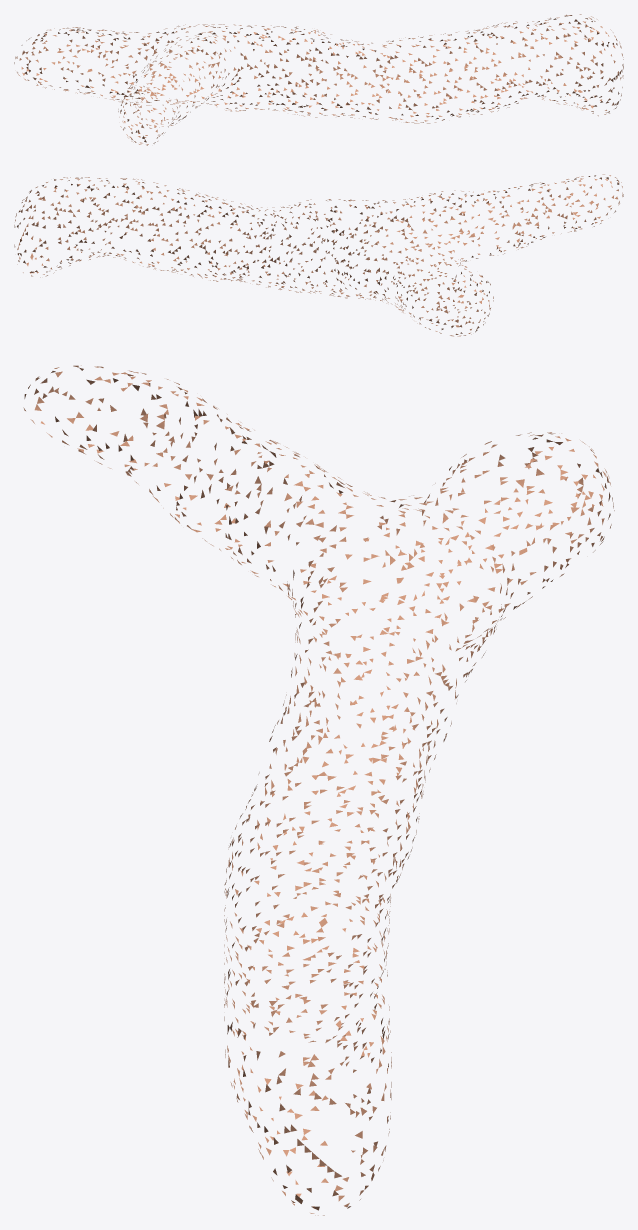
Rendered from morph_004.glb.
3 renders of one model, top to bottom at view 1: azimuth 30°, elevation 25°; view 2: azimuth 150°, elevation 25°; view 3: azimuth 270°, elevation 25°, orthographic. The views are drawn at different scales.
Size of the model in its own units: 107 by 34.34 by 51.37.
